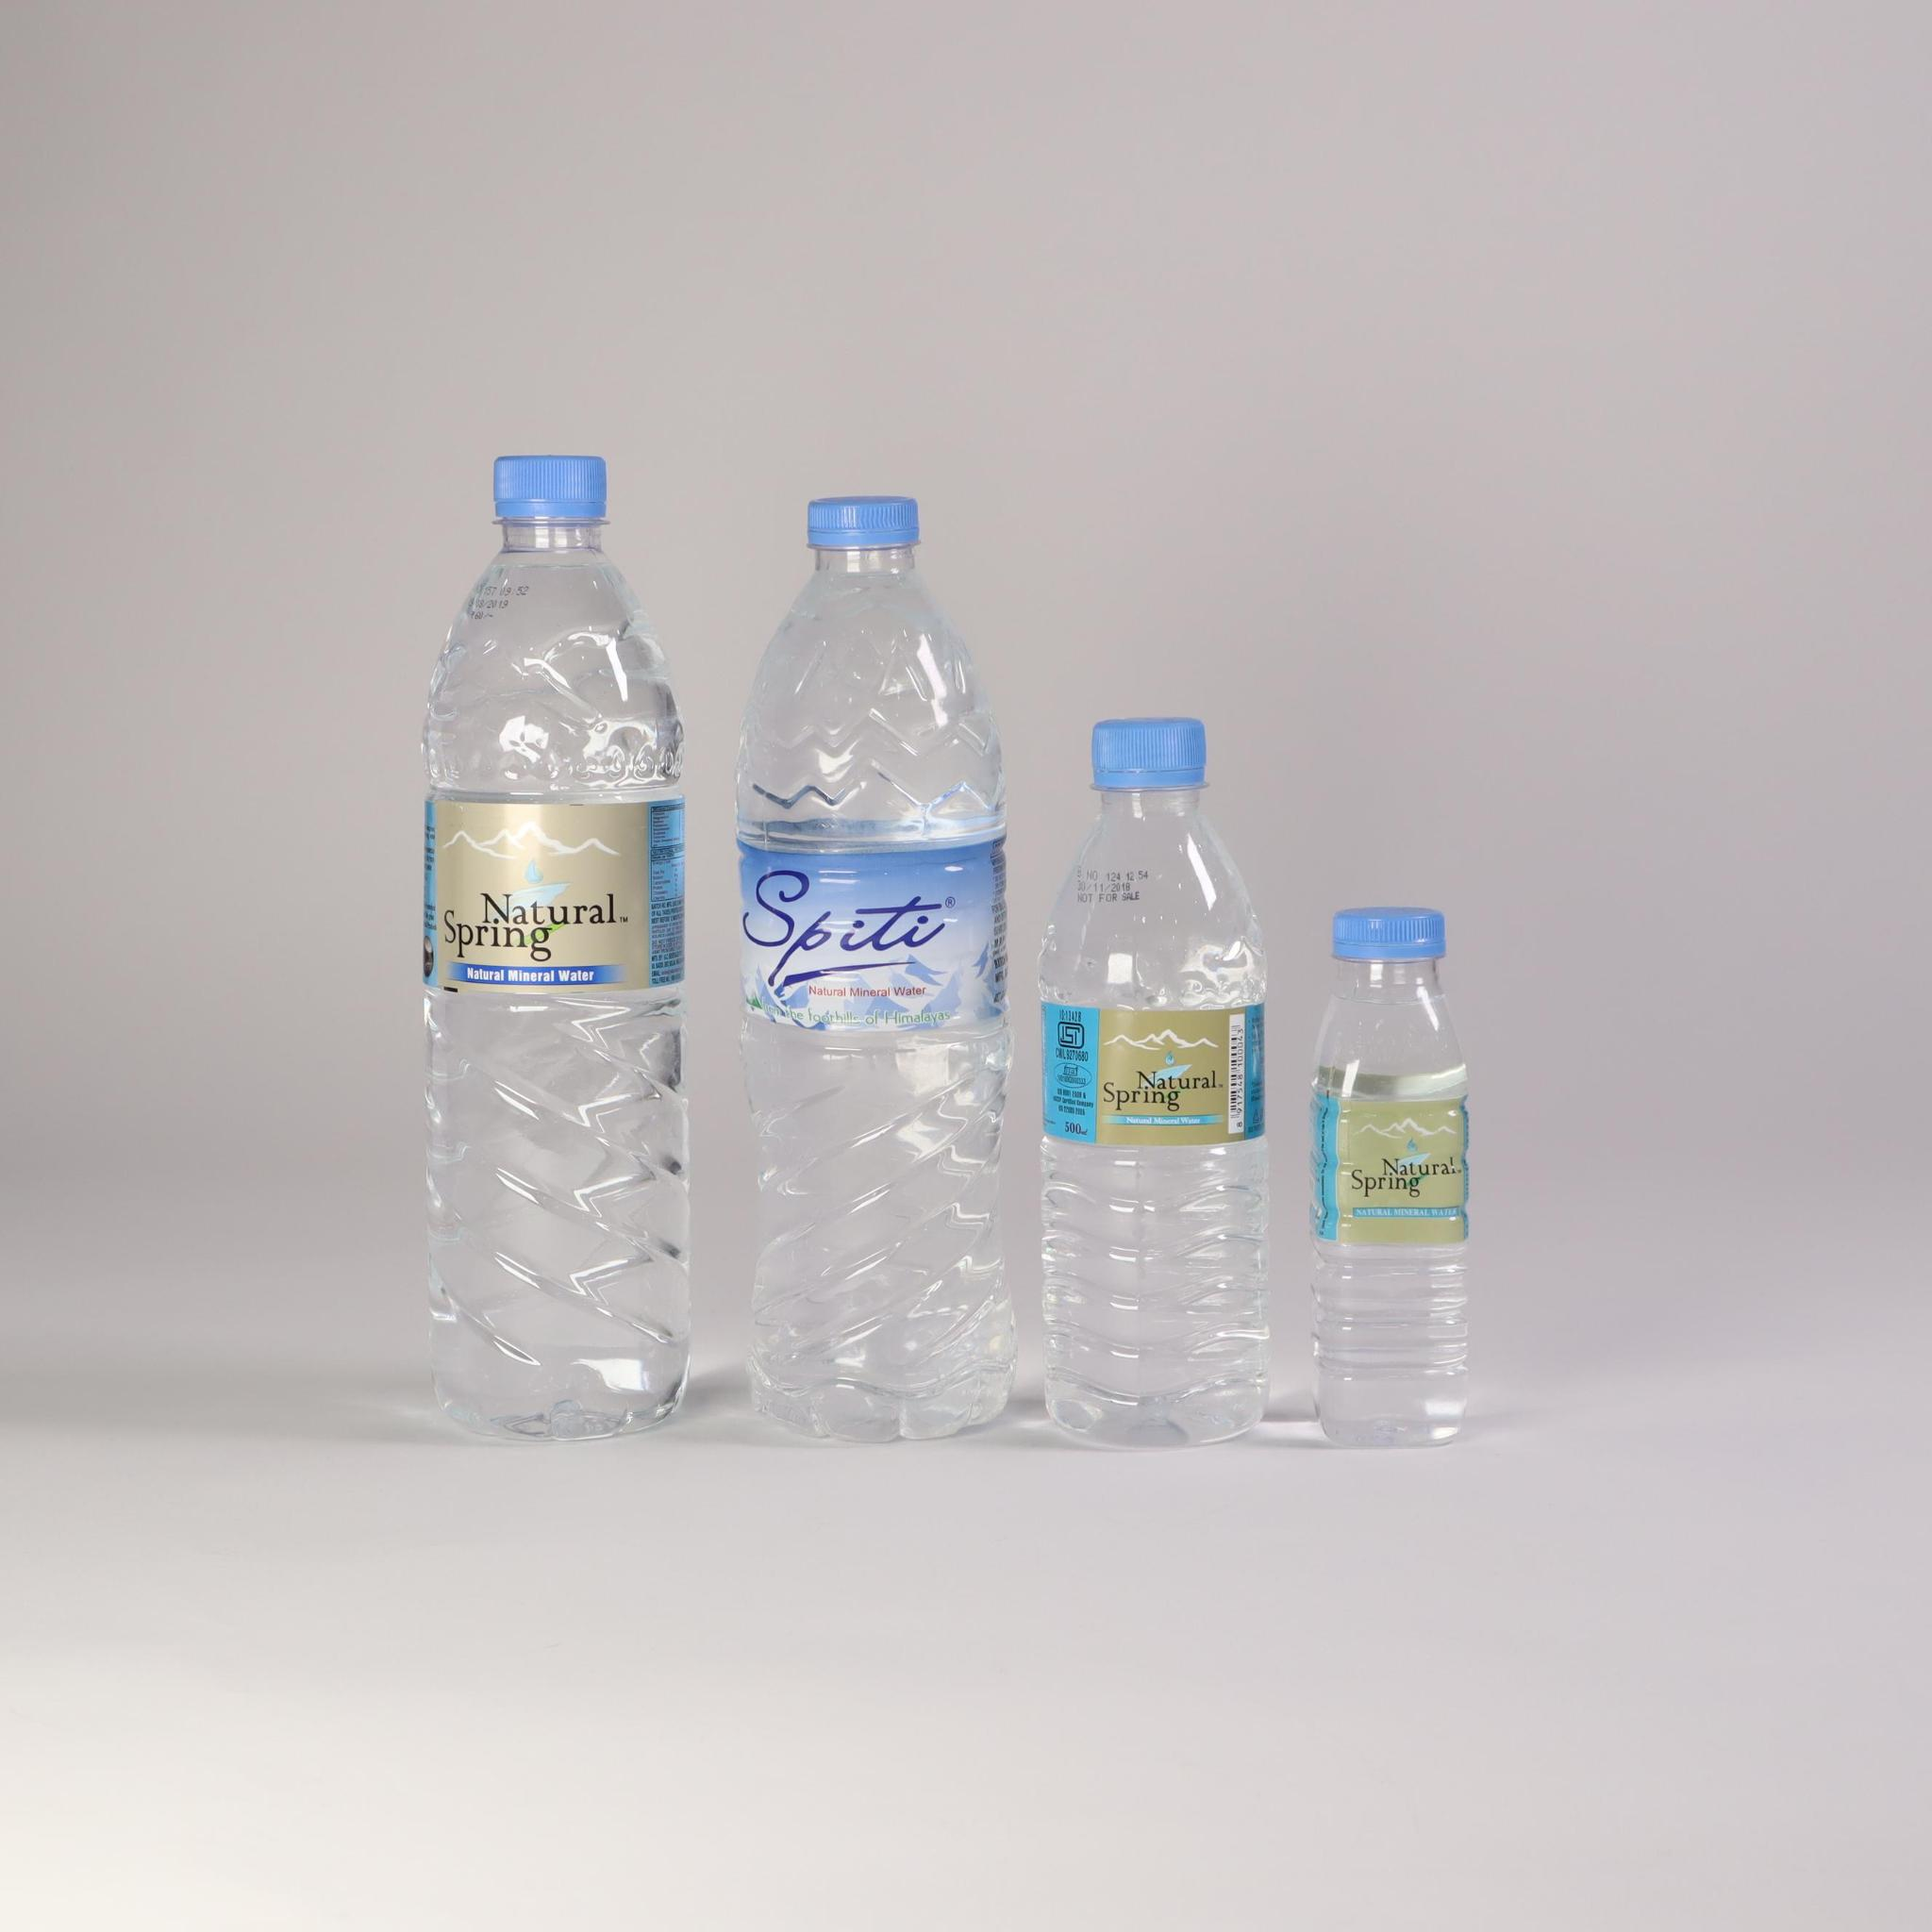bottle: (377, 409, 711, 1438), (736, 402, 1037, 1437), (1053, 651, 1299, 1438), (1315, 837, 1490, 1442)
